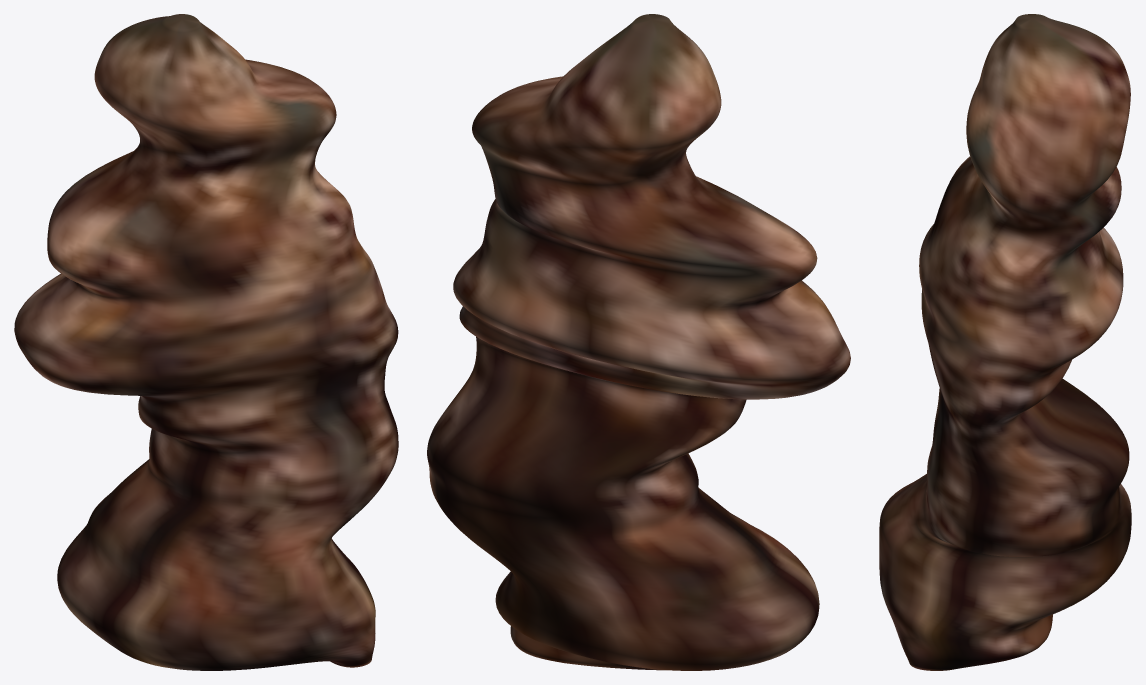
3 renders of one model, left to right at view 1: azimuth 30°, elevation 25°; view 2: azimuth 150°, elevation 25°; view 3: azimuth 270°, elevation 25°, orthographic. The views are drawn at different scales.
Visible parts, largest first — view 1: hull-M1; view 2: hull-M1; view 3: hull-M1.
Boxes of the visible parts, x1,y1,x2,y2 form: hull-M1: (14,14,398,670); hull-M1: (427,14,850,670); hull-M1: (879,14,1131,670).
Bounding box in the file's own units: 1.57 × 2.6 × 1.
